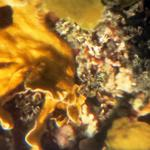alive: (1, 1, 144, 147)
